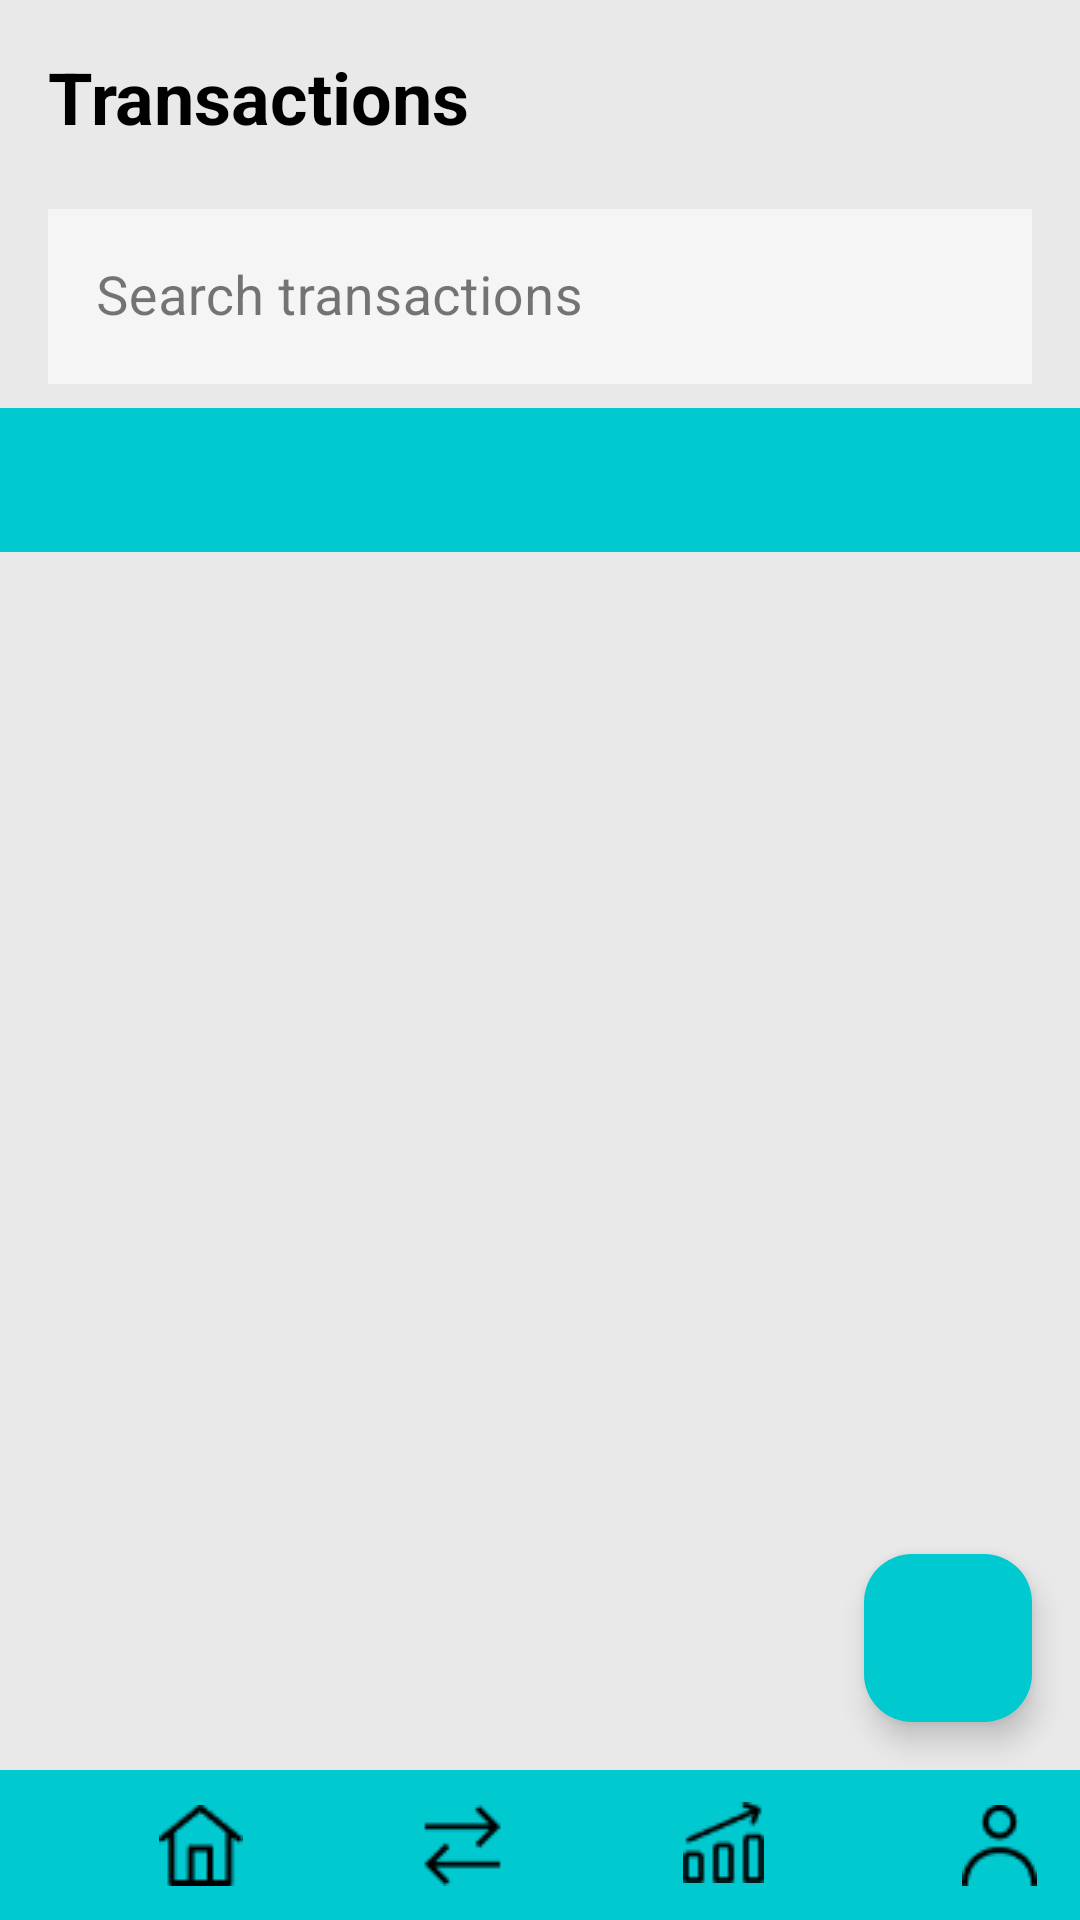

Screen size 1080 x 1920. Icon name, then its center in pixels as (x=x, y=y):
graph: (x=723, y=1842)
home: (x=201, y=1845)
trans: (x=462, y=1845)
user: (x=999, y=1845)
